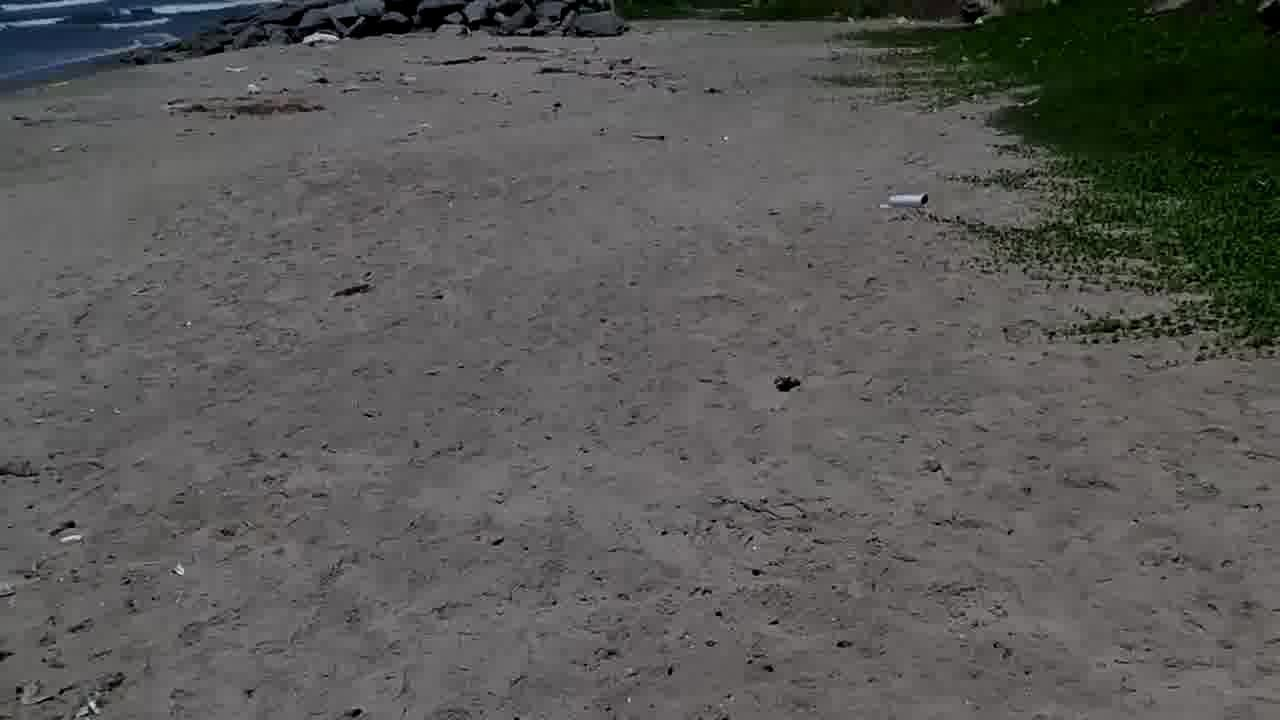obj: (808, 2, 1278, 373), (329, 270, 376, 298), (881, 194, 932, 209), (169, 558, 195, 582), (300, 33, 342, 47), (773, 374, 801, 393), (56, 532, 84, 546)
sand/background: (1, 0, 970, 100)
